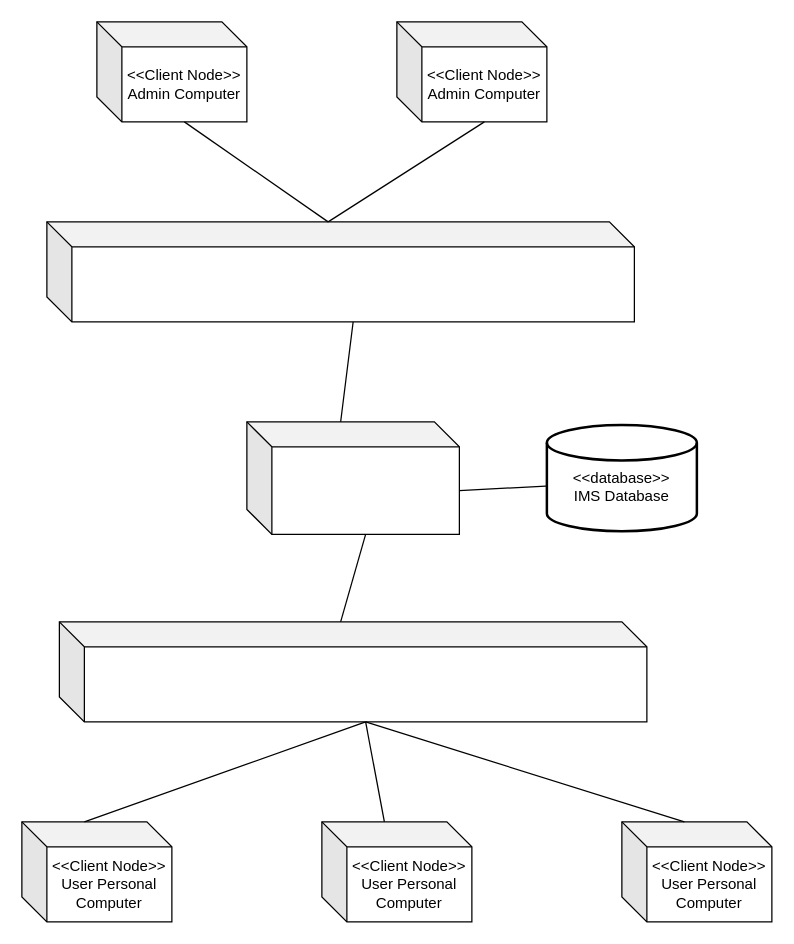
Image size: 794x944. Some labels were removed from this diagram. Here are the shapes that lost their labels. From the top down, the centre of each, then its label:
At [340,271]: "<<Execution Environment>> Local Area Network".
At [352,477]: "<<Server Node>> Image Processing Service".
At [352,671]: "<<Execution Environment>> Wide Area Network".
